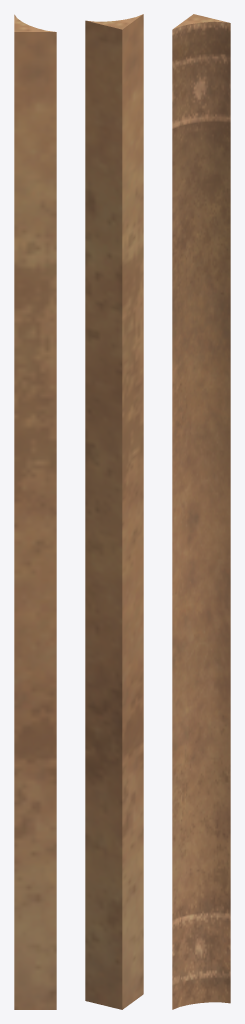
Rendered from Corner_Deco.fbx.
3 views of the same model, side by side, from view 1: azimuth 90°, elevation 25°; view 2: azimuth 150°, elevation 25°; view 3: azimuth 330°, elevation 25° (orthographic).
Parts seen in each view (by area): view 1: Corner_Deco; view 2: Corner_Deco; view 3: Corner_Deco.
Part boxes in pixels (<box>): Corner_Deco: <box>14,14,56,1009</box>; Corner_Deco: <box>85,14,143,1009</box>; Corner_Deco: <box>172,14,230,1009</box>.
Bounding box in the file's own units: 0.1 × 2.53 × 0.1.
